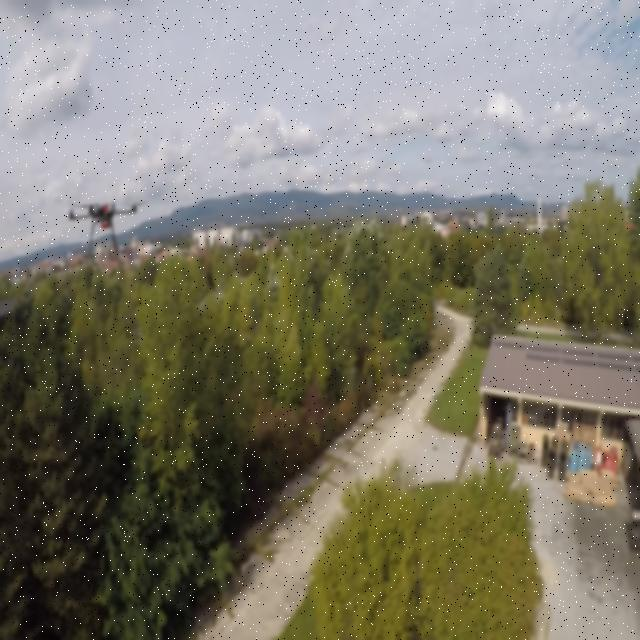UAV: (58, 190, 152, 256)
